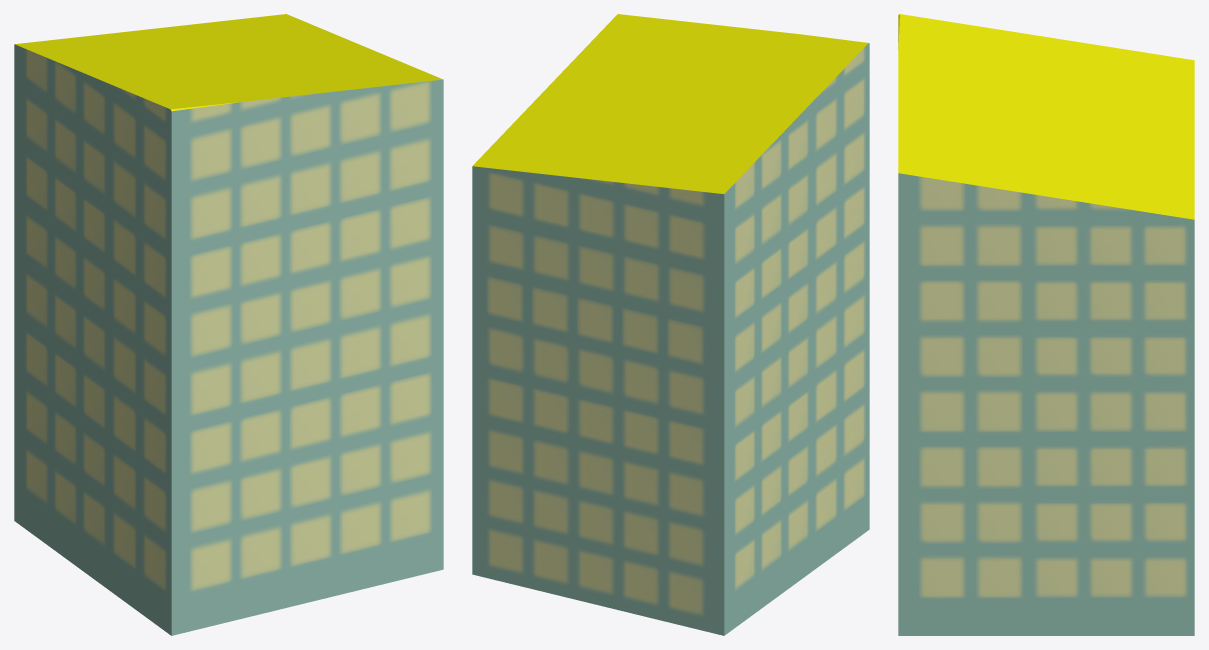
Rendered from c1Shard3.fbx.
3 renders of one model, left to right at view 1: azimuth 30°, elevation 25°; view 2: azimuth 150°, elevation 25°; view 3: azimuth 270°, elevation 25°, orthographic. The views are drawn at different scales.
Visible parts, largest first — view 1: shard53; view 2: shard53; view 3: shard53.
Part boxes in pixels (x1,y1,x2,y2): shard53: (14, 14, 443, 635); shard53: (472, 14, 869, 635); shard53: (898, 14, 1194, 635).
Bounding box in the file's own units: 0.0917 × 0.1694 × 0.0917.
Materials: 2 (1 with a texture image).
